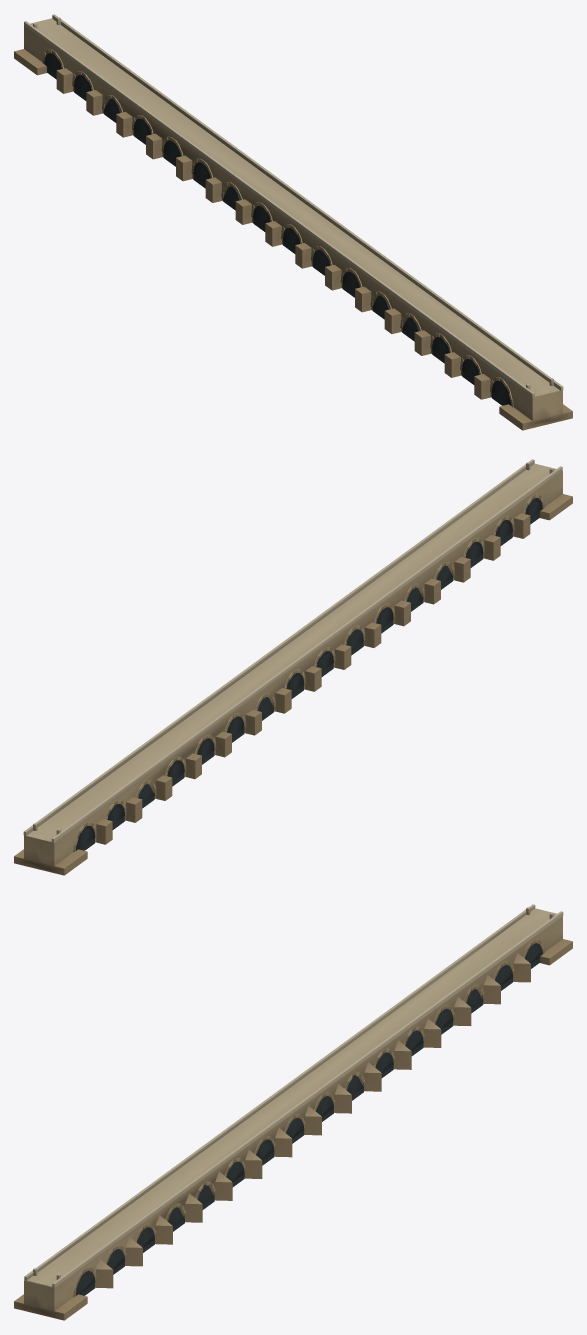
Rendered from roman-bridge.glb.
3 views of the same model, one above another, from view 1: azimuth 30°, elevation 25°; view 2: azimuth 150°, elevation 25°; view 3: azimuth 330°, elevation 25° (orthographic).
Visible parts, largest first — view 1: p1_arches, p0_abutments; view 2: p1_arches, p0_abutments; view 3: p1_arches, p0_abutments.
Boxes of the visible parts, x1,y1,x2,y2 form: p1_arches: (24, 14, 563, 426); p0_abutments: (14, 49, 572, 430); p1_arches: (23, 459, 562, 865); p0_abutments: (14, 494, 572, 875); p1_arches: (24, 904, 563, 1315); p0_abutments: (14, 939, 572, 1320).
Size of the model in its own units: 16.01 by 10.51 by 262.
